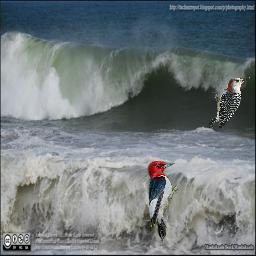Woodpecker: (146, 161, 181, 245), (209, 77, 250, 129)
